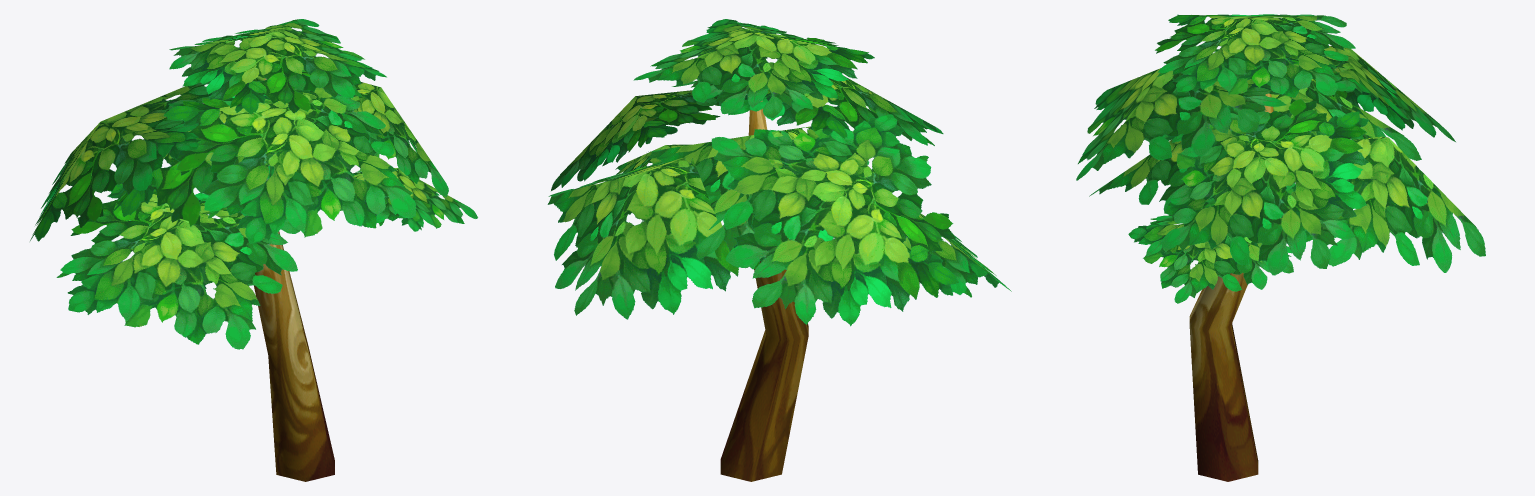
The model's file is Tree.FBX.
The picture shows the model from 3 angles, left to right: view 1: azimuth 30°, elevation 25°; view 2: azimuth 150°, elevation 25°; view 3: azimuth 270°, elevation 25°; orthographic projection. The views are drawn at different scales.
Parts seen in each view (by area): view 1: SM_Tree; view 2: SM_Tree; view 3: SM_Tree.
Part boxes in pixels (x1,y1,x2,y2): SM_Tree: (30, 19, 477, 481); SM_Tree: (547, 19, 1011, 481); SM_Tree: (1076, 14, 1485, 481).
Bounding box in the file's own units: 72.85 × 68.7 × 65.09.
